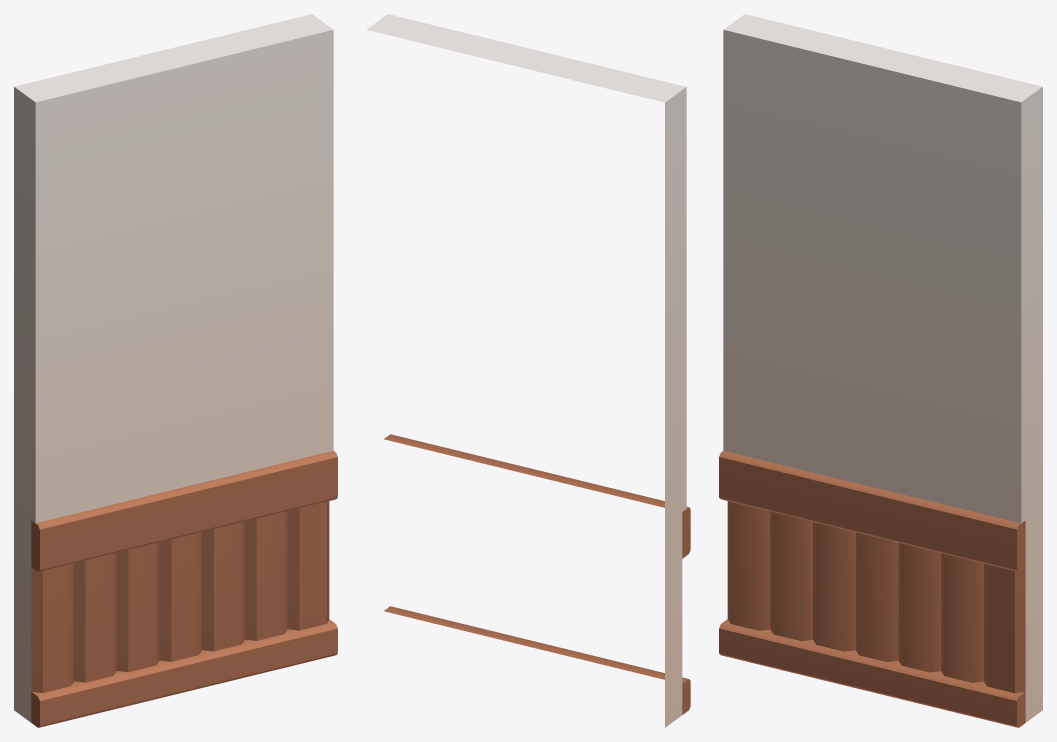
File: wall-modular-panelled-bakery-straight-a.glb
3 renders of one model, left to right at view 1: azimuth 30°, elevation 25°; view 2: azimuth 150°, elevation 25°; view 3: azimuth 330°, elevation 25°, orthographic.
Visible parts, largest first — view 1: wall_modular_panelled_bakery_straight_A; view 2: wall_modular_panelled_bakery_straight_A; view 3: wall_modular_panelled_bakery_straight_A.
Part boxes in pixels (x1,y1,x2,y2): wall_modular_panelled_bakery_straight_A: [14, 14, 337, 727]; wall_modular_panelled_bakery_straight_A: [366, 14, 690, 727]; wall_modular_panelled_bakery_straight_A: [719, 14, 1042, 727].
Bounding box in the file's own units: 2 × 4 × 0.3.
1 material, 1 textured.
